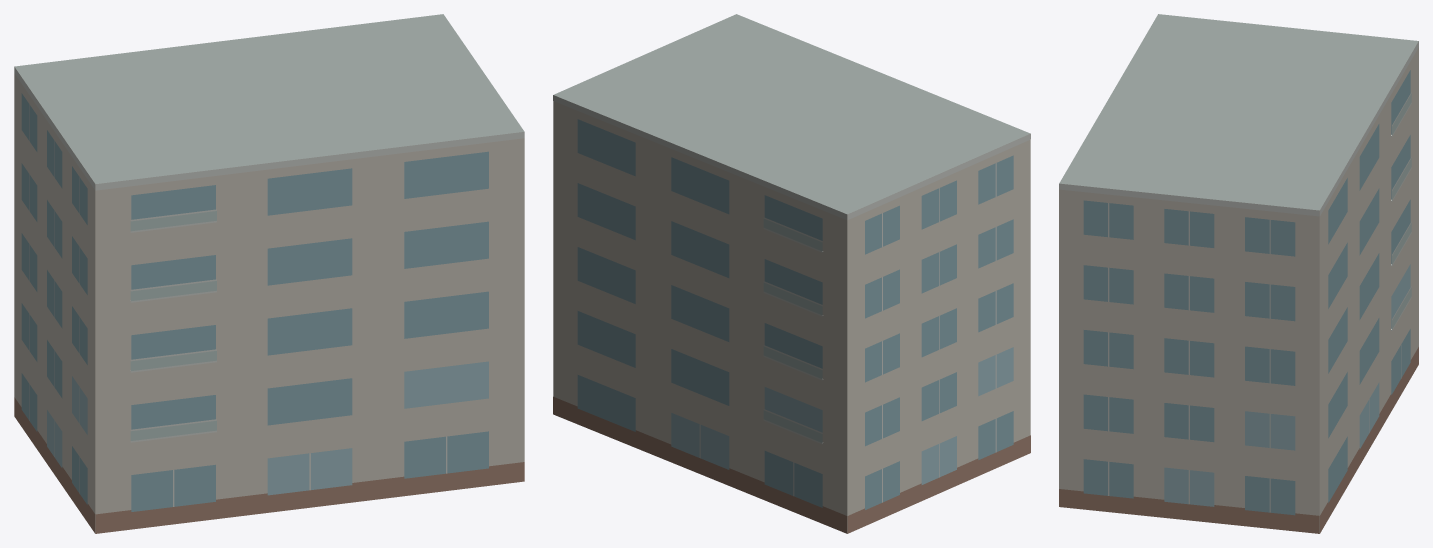
Rendered from survey-upis-32889763.glb.
3 renders of one model, left to right at view 1: azimuth 30°, elevation 25°; view 2: azimuth 150°, elevation 25°; view 3: azimuth 270°, elevation 25°, orthographic. The views are drawn at different scales.
Visible parts, largest first — view 1: survey-upis-32889763.tmp; view 2: survey-upis-32889763.tmp; view 3: survey-upis-32889763.tmp.
Boxes of the visible parts, x1=… form: survey-upis-32889763.tmp: x1=14, y1=14, x2=524, y2=533; survey-upis-32889763.tmp: x1=553, y1=14, x2=1030, y2=533; survey-upis-32889763.tmp: x1=1059, y1=14, x2=1418, y2=533.
Size of the model in its own units: 17.21 by 13.2 by 13.32.
